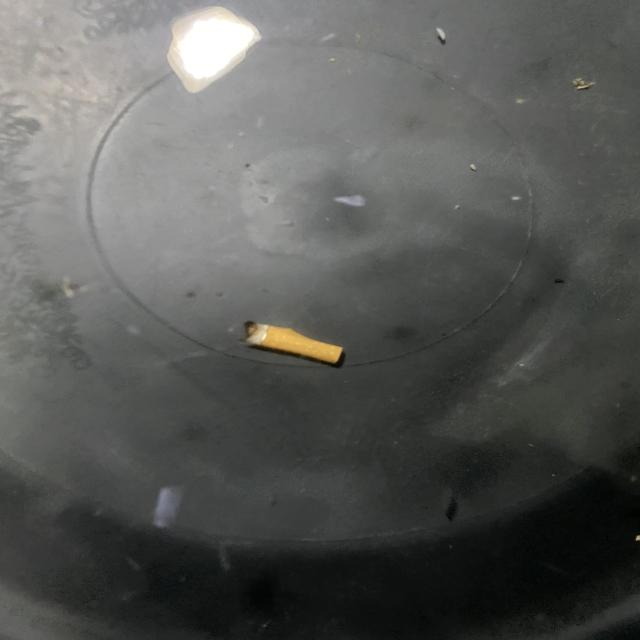Cigarette Filter: (245, 322, 345, 367)
